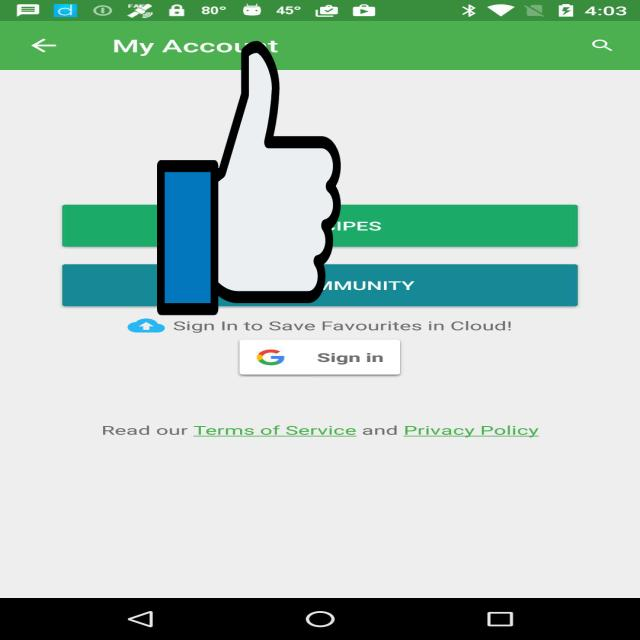privacy zuckering: (157, 35, 341, 321)
